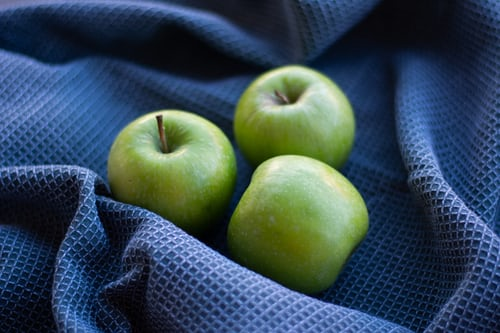apple: (225, 154, 370, 300), (105, 107, 235, 242), (232, 62, 357, 179)
